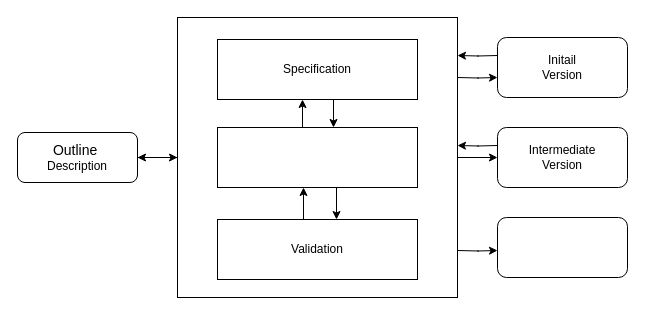
Image size: 645x315. Some labels were removed from this diagram. Each missing label, with the box of its shape:
Development: (216, 126, 418, 188)
Final Version: (496, 216, 628, 278)
